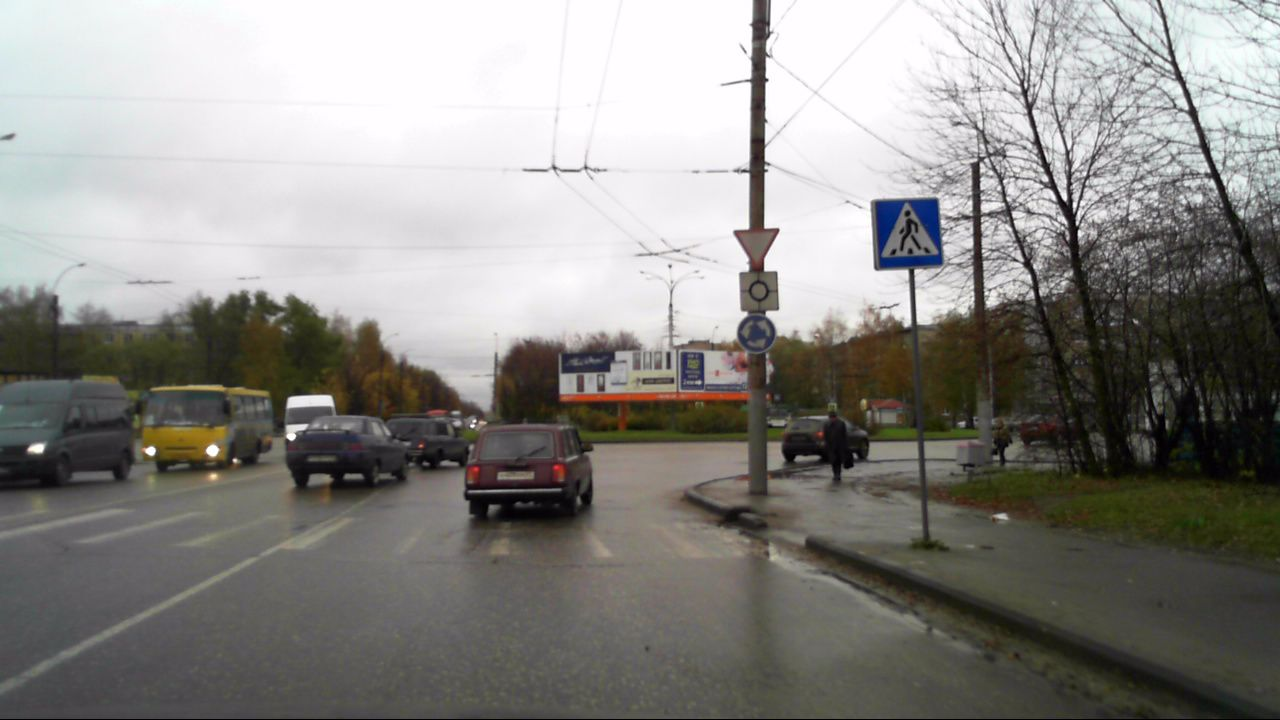Round-About: (737, 314, 777, 354)
